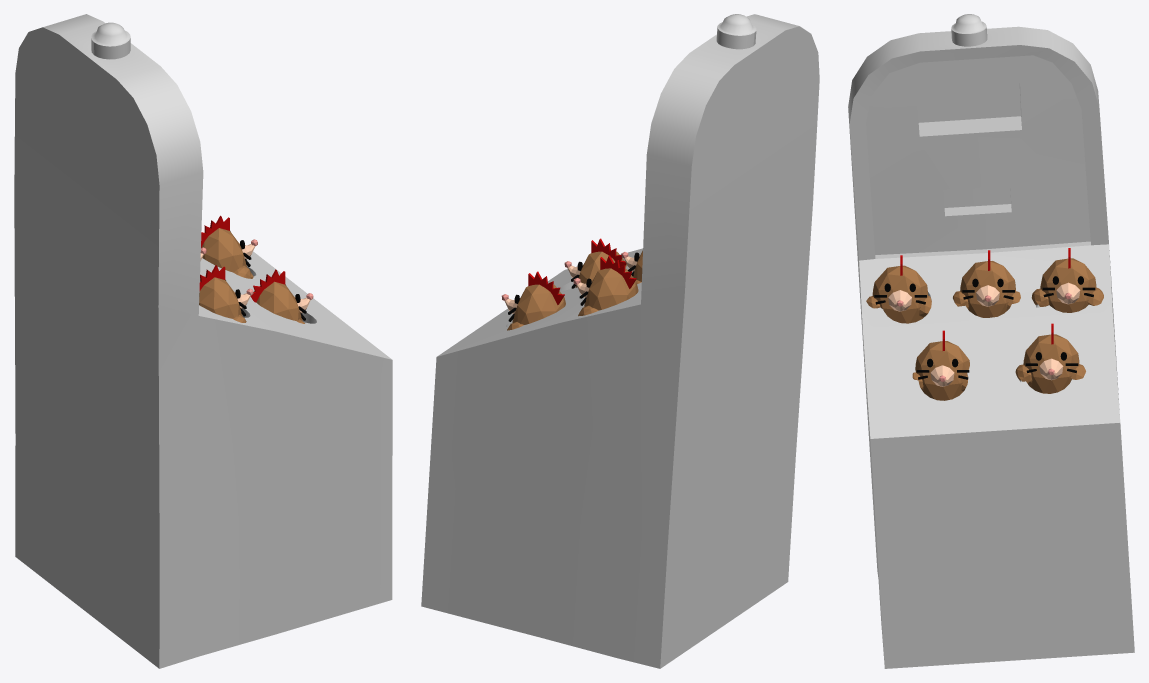
Rendered from hit_machine.fbx.
The picture shows the model from 3 angles, left to right: view 1: azimuth 30°, elevation 25°; view 2: azimuth 150°, elevation 25°; view 3: azimuth 270°, elevation 25°; orthographic projection. The views are drawn at different scales.
Parts seen in each view (by area): view 1: WhachopefullydoneOBJ, Body.010, Body.002, Body.001; view 2: WhachopefullydoneOBJ, Body.004, Body.010, Body.001; view 3: WhachopefullydoneOBJ, Body.010, Body.004, Body.003, Body.002, Body.001.
Boxes of the visible parts, x1,y1,x2,y2 form: WhachopefullydoneOBJ: (14,14,392,668); Body.010: (201,215,257,278); Body.002: (199,265,253,350); Body.001: (250,269,313,323); WhachopefullydoneOBJ: (421,14,819,668); Body.004: (573,255,638,316); Body.010: (501,271,565,330); Body.001: (564,238,626,288); WhachopefullydoneOBJ: (848,14,1134,668); Body.010: (1015,323,1085,393); Body.004: (1031,248,1103,312); Body.003: (953,250,1020,317); Body.002: (866,255,931,323); Body.001: (912,330,969,400).
Bounding box in the file's own units: 1100 × 2449 × 1144.
Materials: 2 (1 with a texture image).
